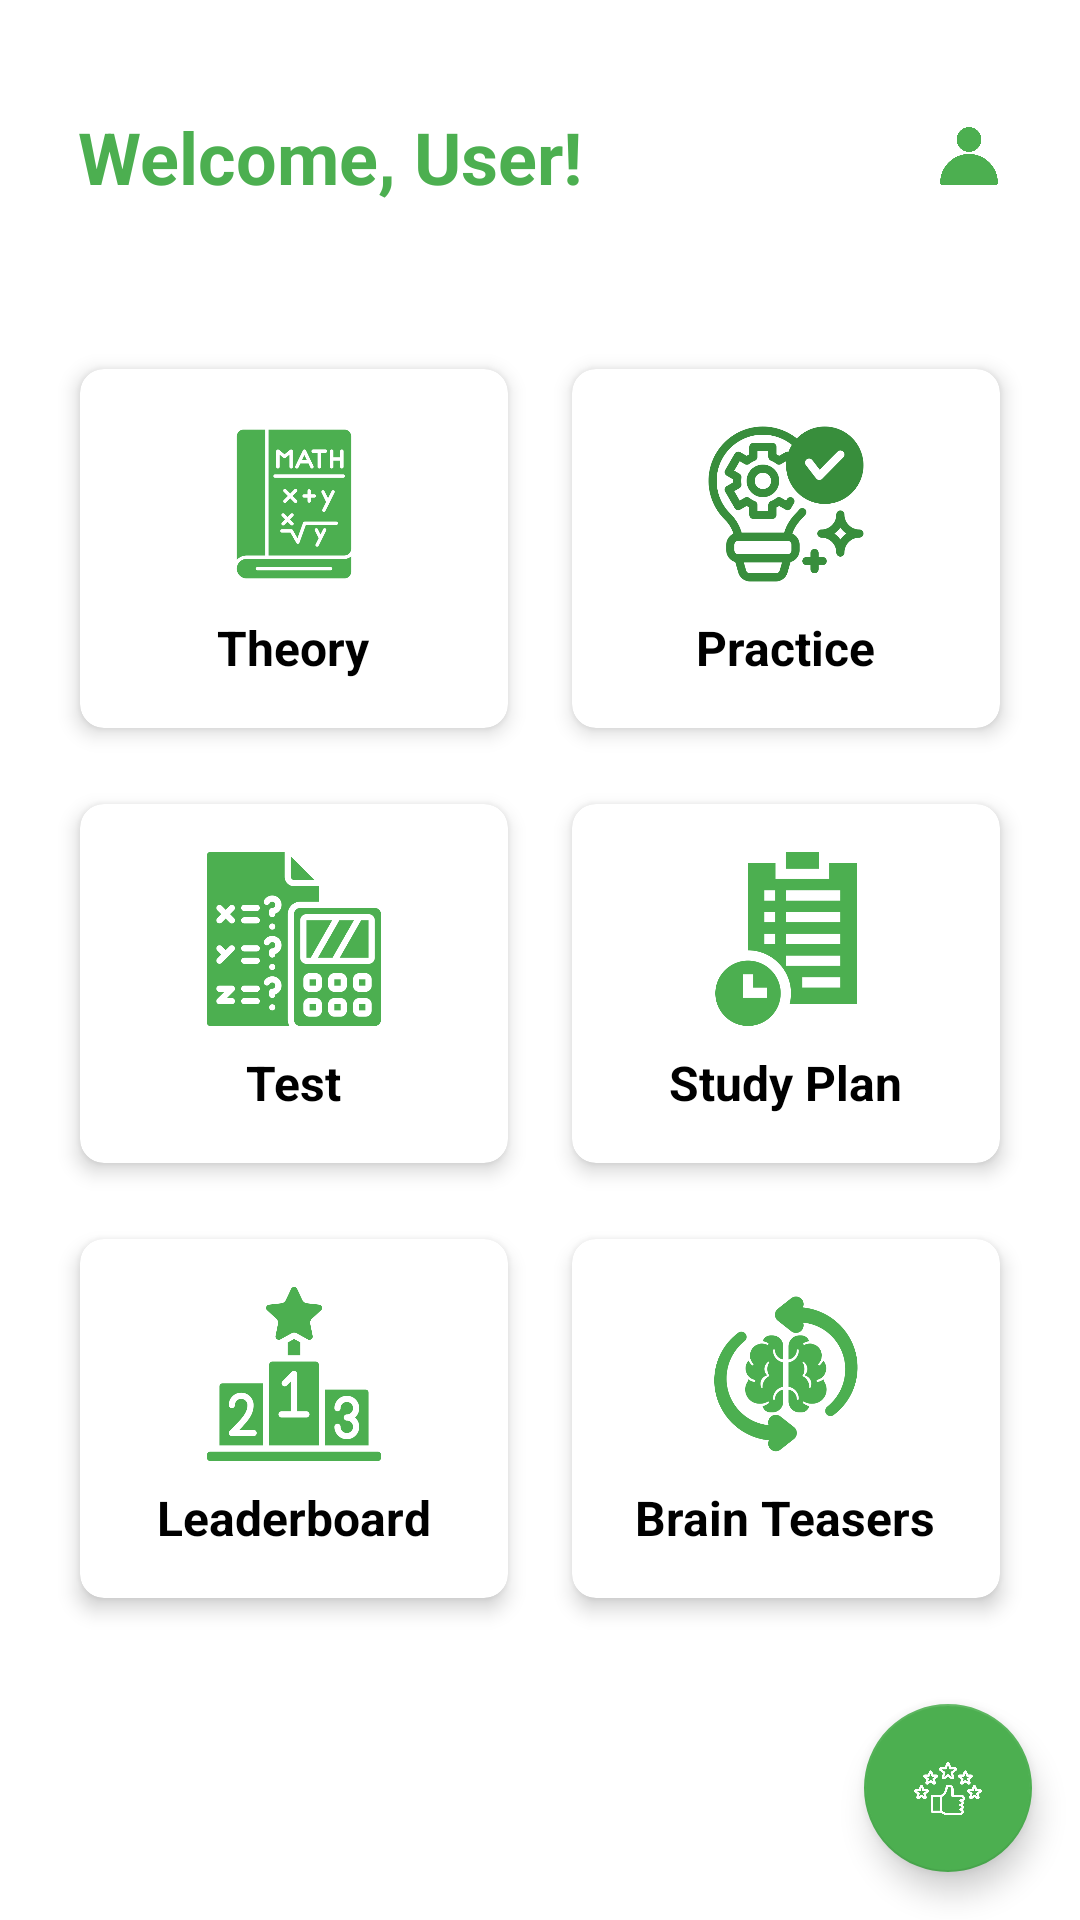

Icons on this 1080px×1920px Android screen, each with the point to tap as (x,y):
Profile Icon: (969,156)
rate: (948,1788)
